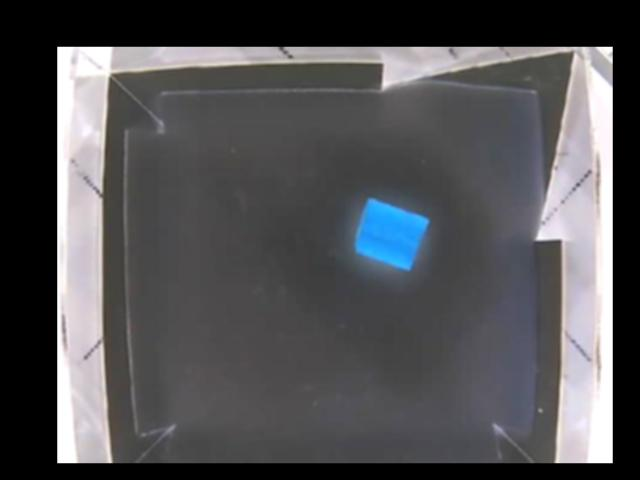Carrot: (352, 196, 429, 270)
